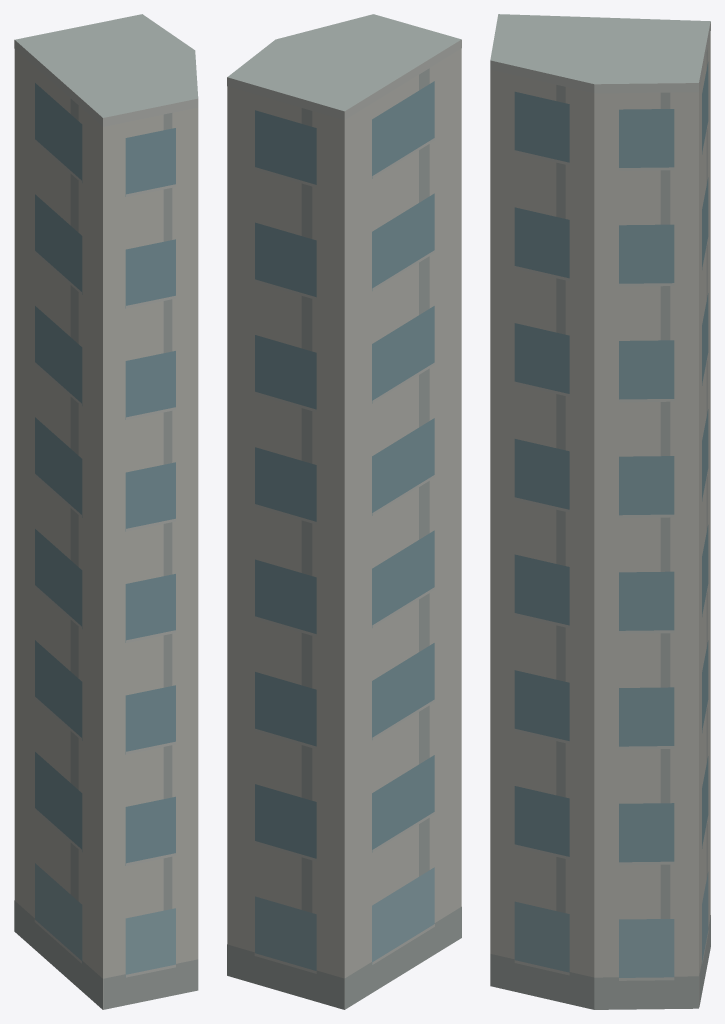
Rendered from survey-upis-32834278.glb.
3 views of the same model, side by side, from view 1: azimuth 30°, elevation 25°; view 2: azimuth 150°, elevation 25°; view 3: azimuth 270°, elevation 25° (orthographic). The views are drawn at different scales.
Parts seen in each view (by area): view 1: survey-upis-32834278.tmp; view 2: survey-upis-32834278.tmp; view 3: survey-upis-32834278.tmp.
Part boxes in pixels (x1,y1,x2,y2): survey-upis-32834278.tmp: [14, 14, 198, 1009]; survey-upis-32834278.tmp: [227, 14, 461, 1009]; survey-upis-32834278.tmp: [490, 14, 710, 1009].
Size of the model in its own units: 3.98 by 24.4 by 5.28.
